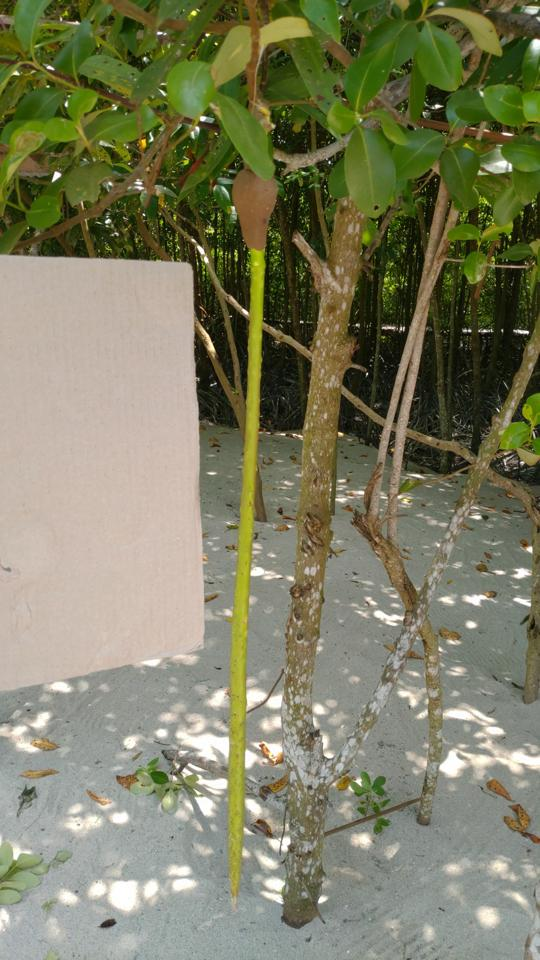mentah: (220, 156, 279, 908)
